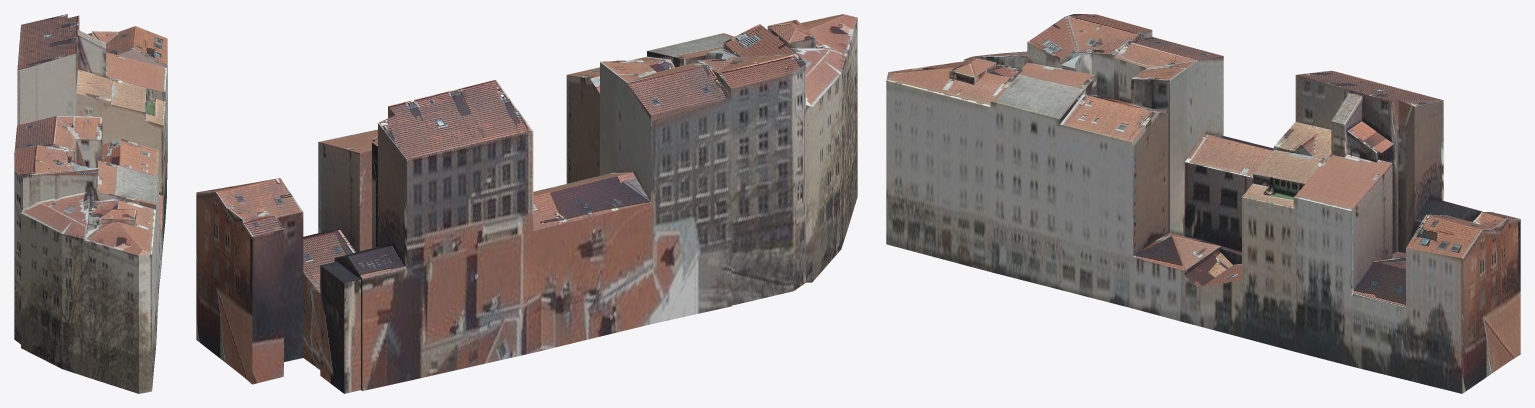
The model's file is LYON_1ER_00043.dae.
3 views of the same model, side by side, from view 1: azimuth 30°, elevation 25°; view 2: azimuth 150°, elevation 25°; view 3: azimuth 270°, elevation 25° (orthographic). The views are drawn at different scales.
Size of the model in its own units: 55.67 by 82.45 by 32.31.
2 materials, 2 textured.
